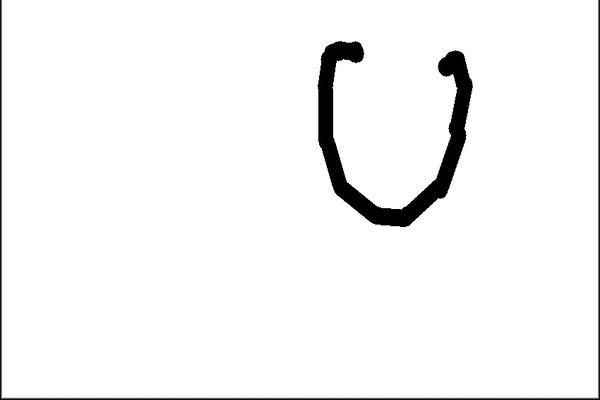U: (305, 32, 476, 230)
